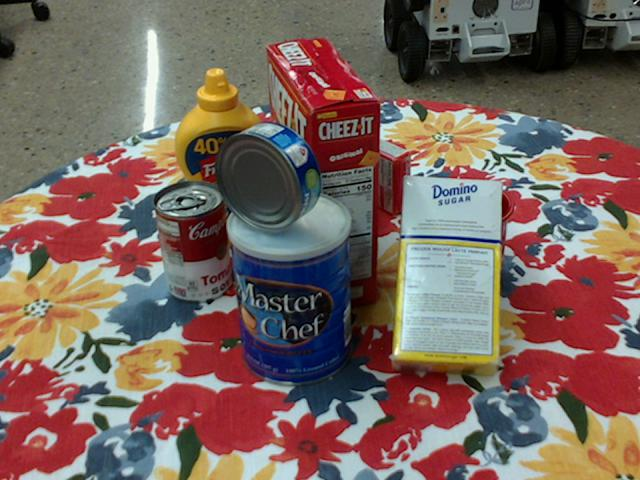cracker_box: (266, 39, 380, 312)
gelatin_box: (340, 127, 410, 214)
large_marker: (281, 78, 312, 128)
master_chef_can: (227, 191, 351, 389)
mug: (401, 179, 512, 290)
mustard_bottle: (173, 70, 272, 247)
potted_meat_can: (250, 121, 342, 213)
sugar_box: (390, 178, 500, 378)
tomato_soup_can: (152, 180, 231, 303)
tuna_fish_can: (214, 123, 321, 234)
